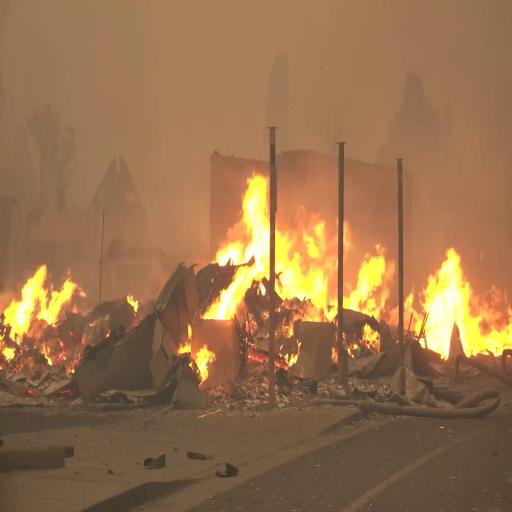fire: (220, 178, 332, 316), (0, 265, 81, 378), (415, 242, 488, 357), (340, 239, 402, 331)
